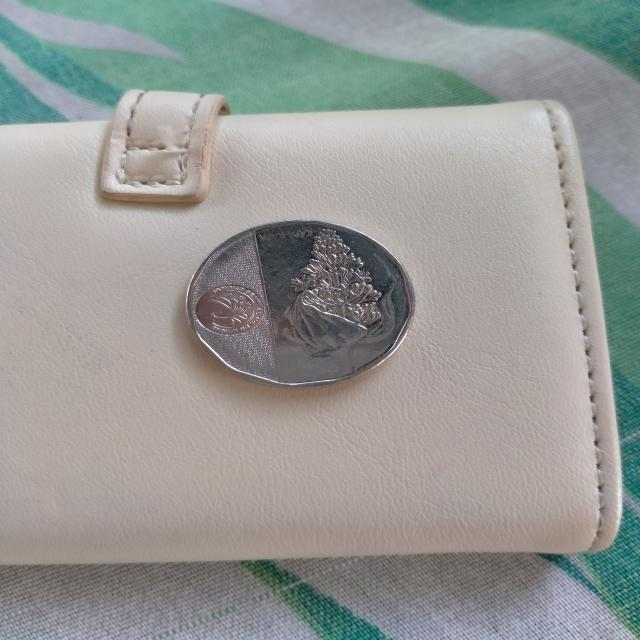10_New_Back: (277, 226, 393, 374)
